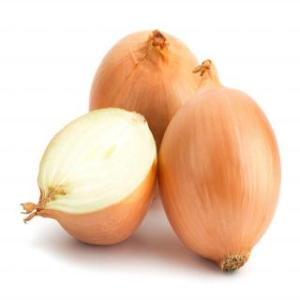onion: (158, 60, 280, 274), (88, 30, 204, 202), (20, 107, 156, 247)
